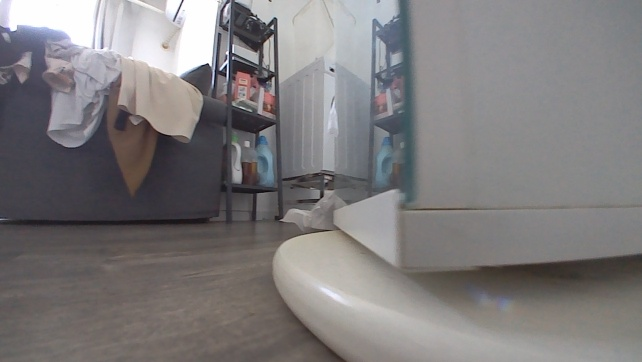sofa1: (0, 24, 232, 227)
washing_machine1: (276, 54, 375, 186)
